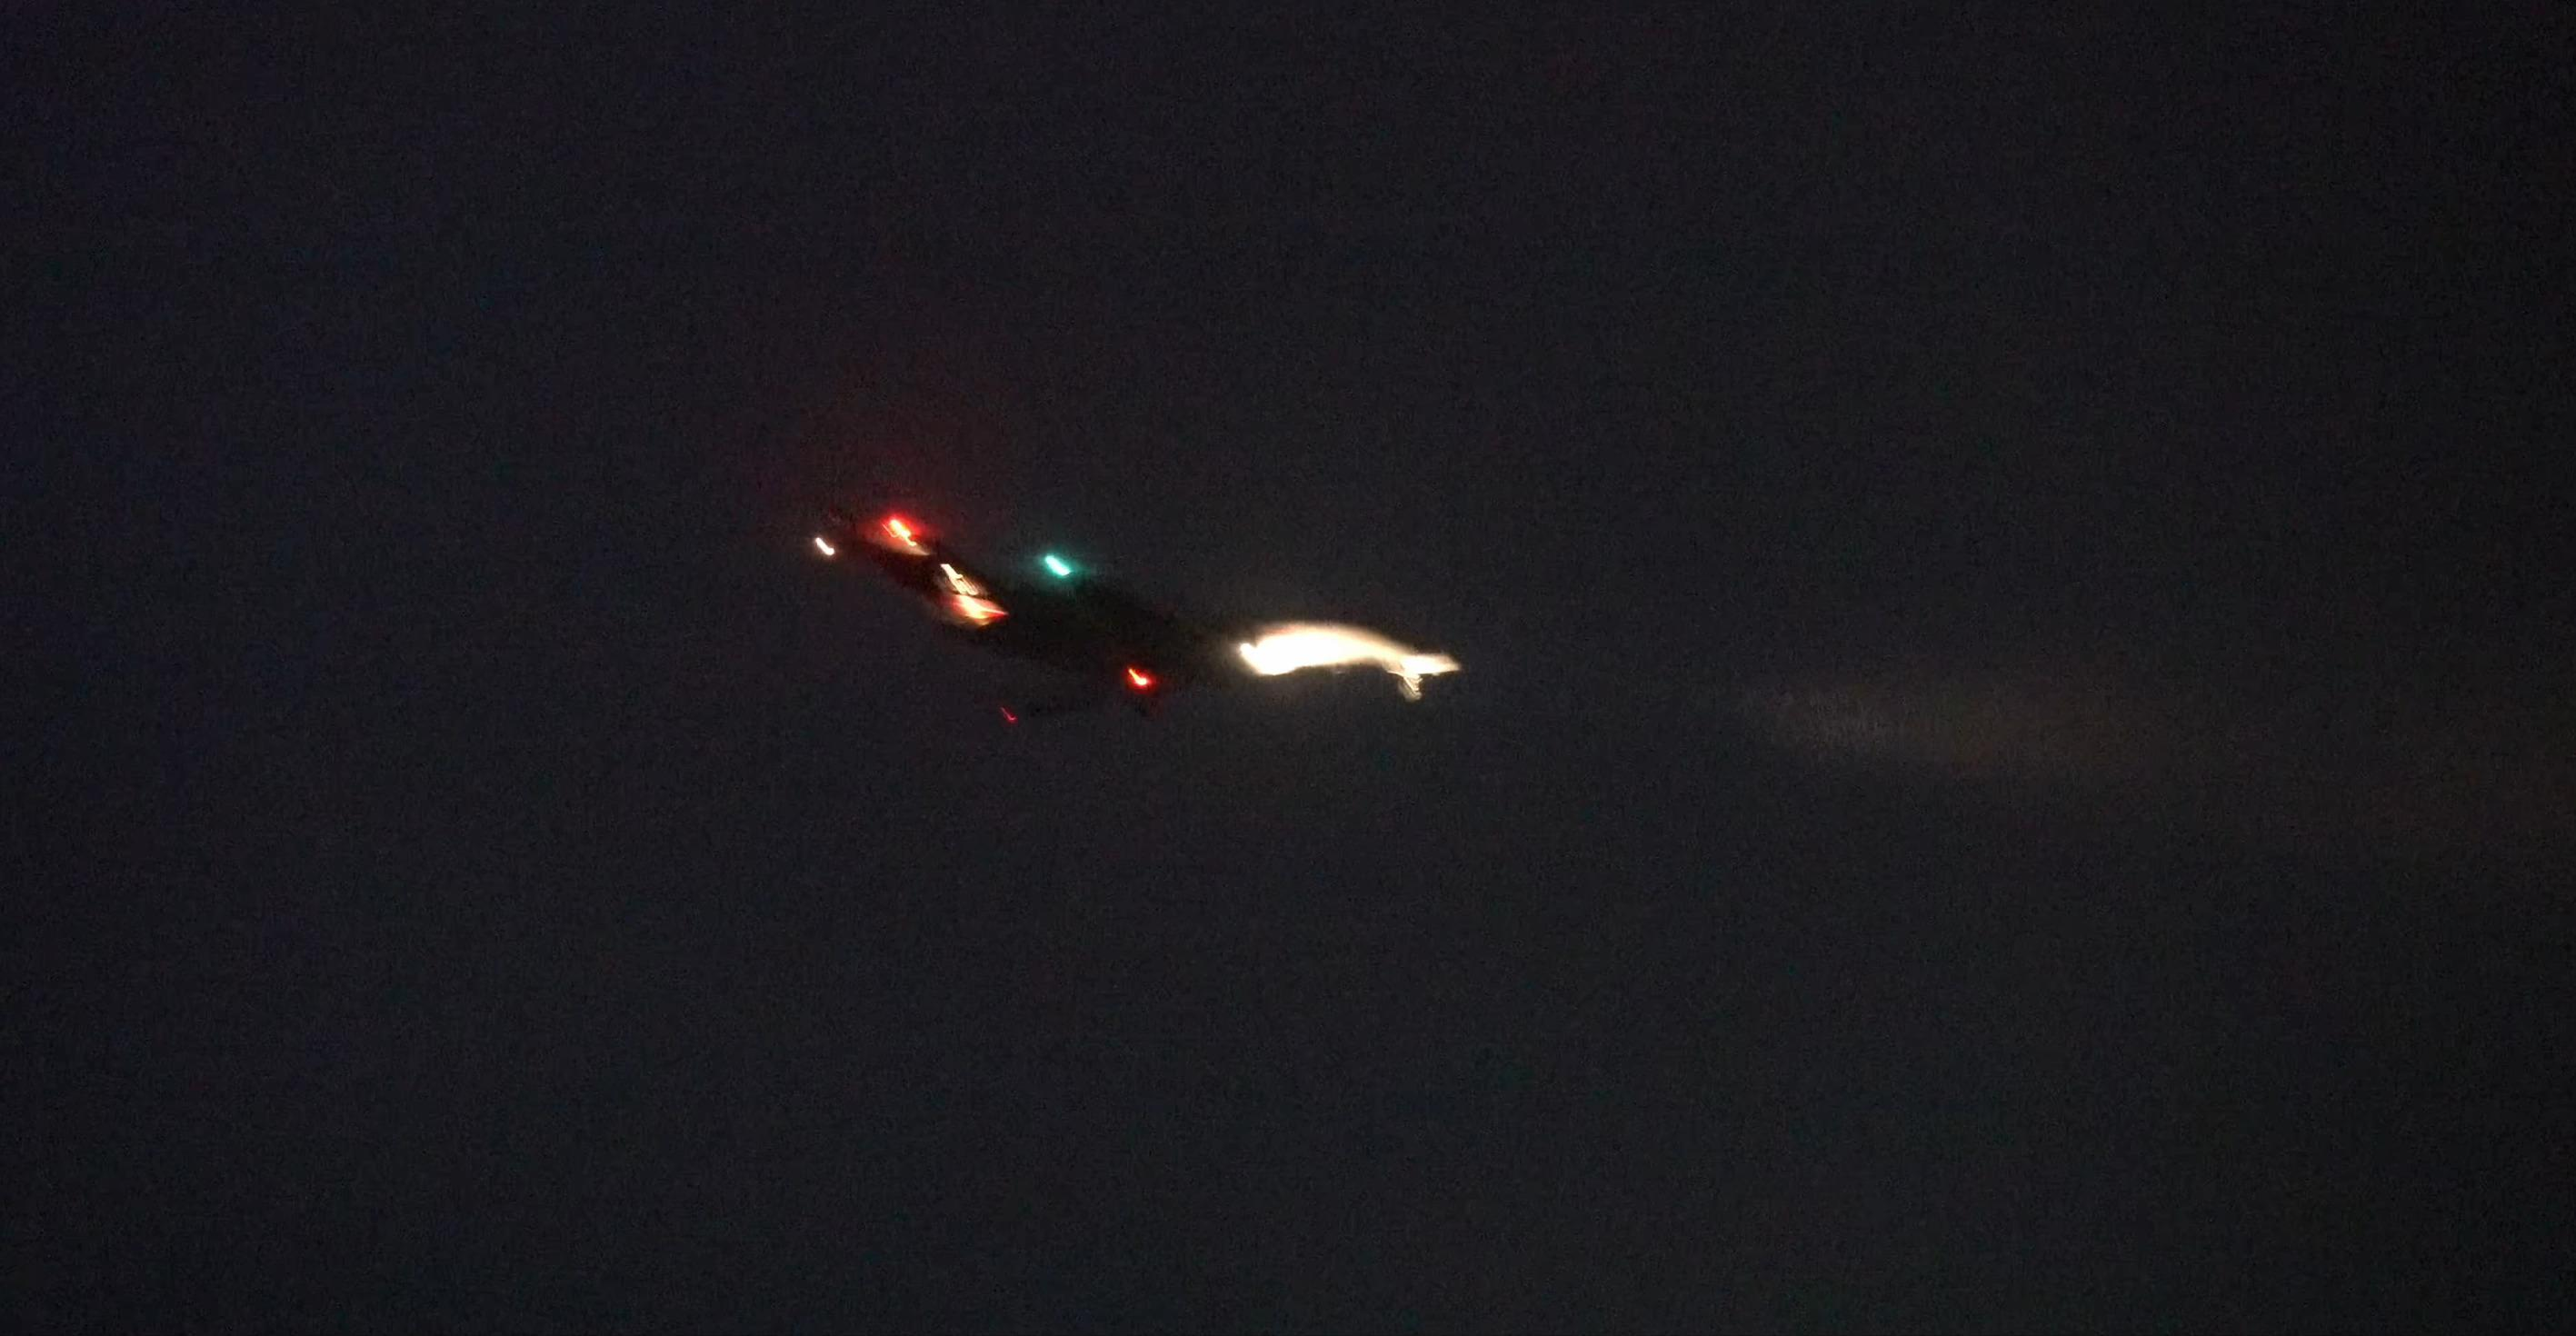Plane: (818, 503, 1458, 724)
